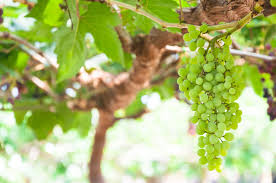grapes: (180, 27, 242, 169)
